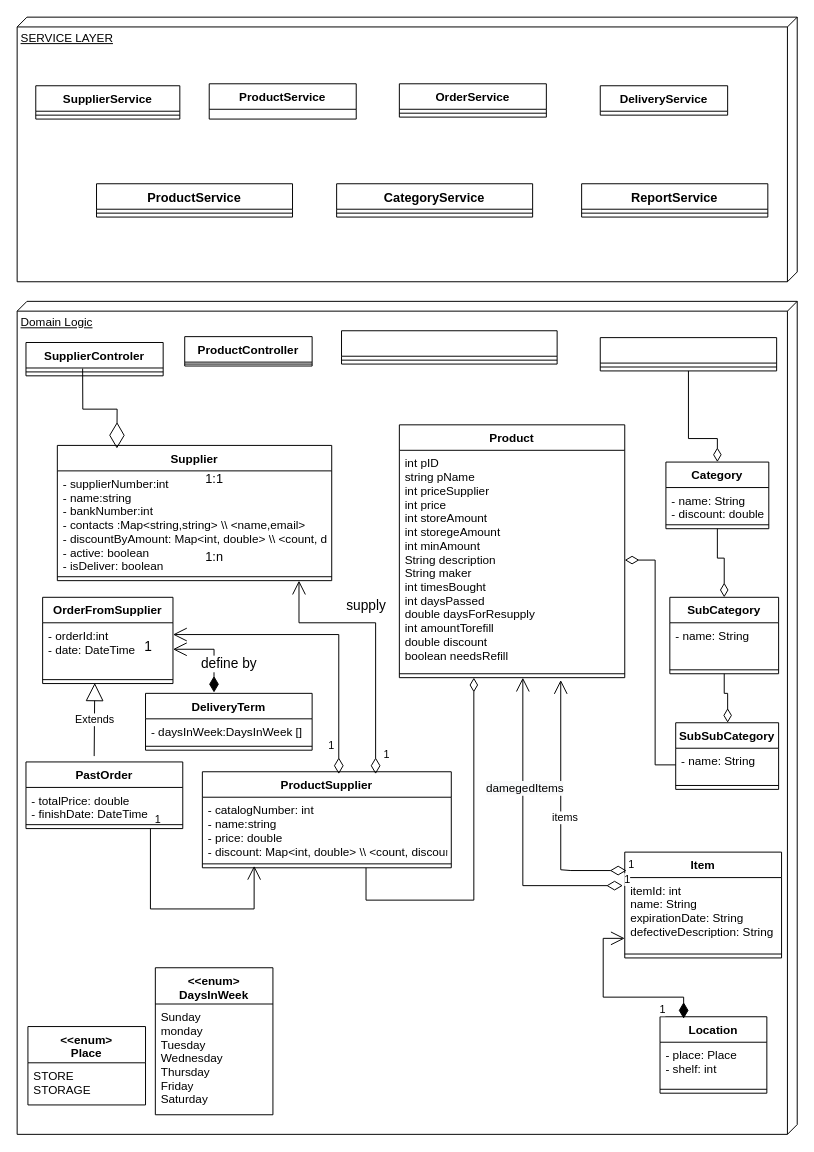
This 814x1152 diagram has some shape labels left out. Here are the shapes that lost their labels. From the top down, the centre of each, then its label:
At point 449,347: "ReportController".
At point 688,354: "CategoryConroller".
